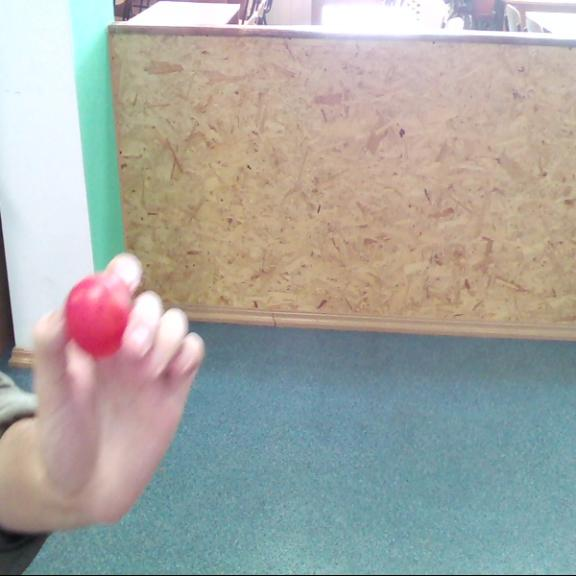ball: (64, 274, 133, 356)
